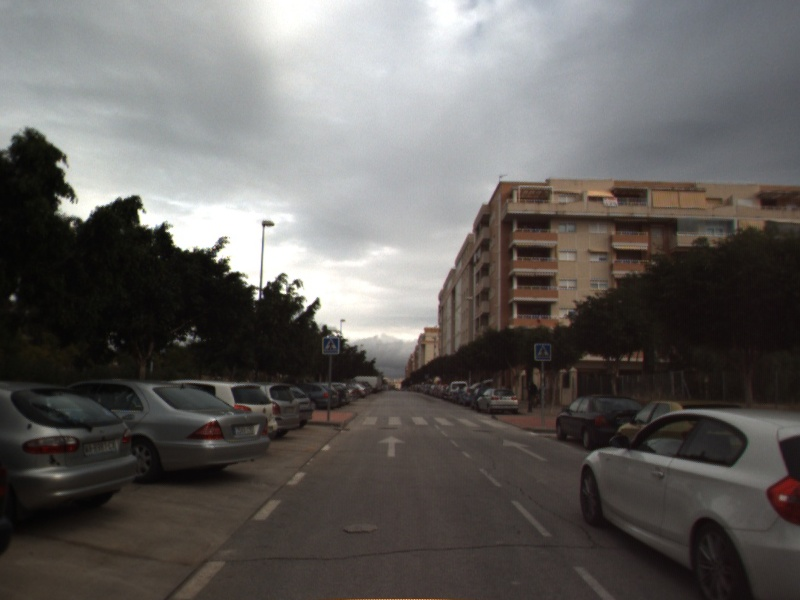STRAIGHT: (501, 437, 550, 463), (376, 433, 408, 458)
